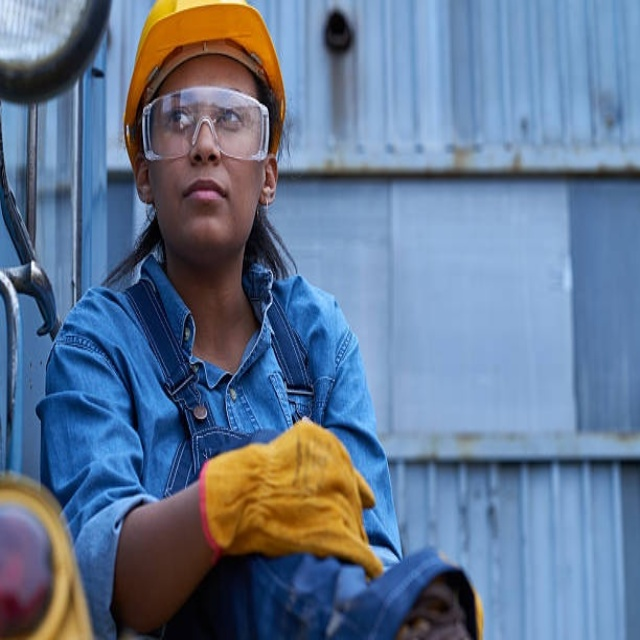Gafas: (139, 87, 274, 163)
Guantes: (200, 417, 379, 580)
Sin_mascara: (176, 169, 233, 227)
